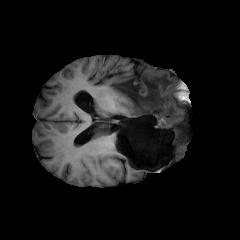glioma: (105, 68, 185, 148)
